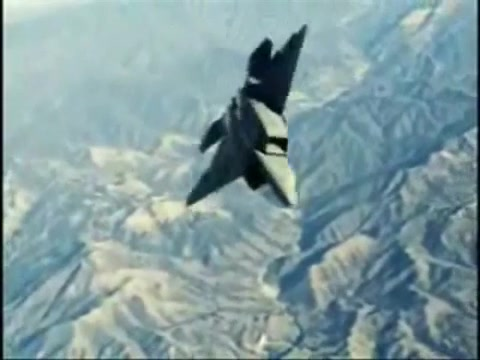aeroplane: (186, 25, 311, 209)
